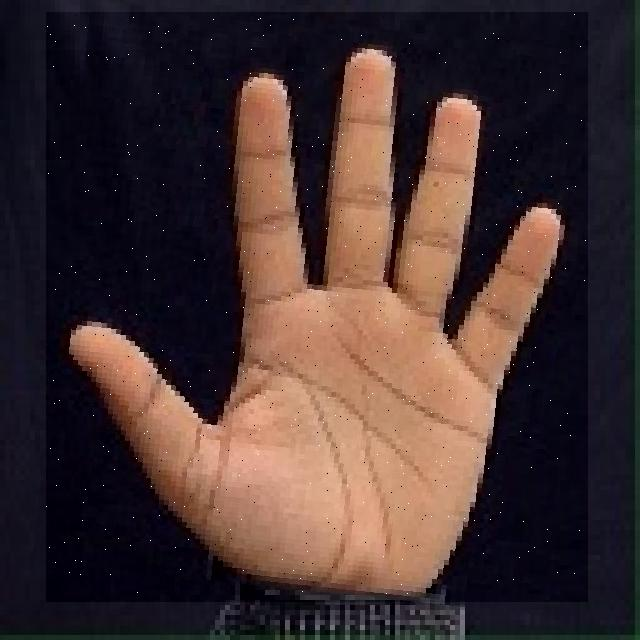Yes: (46, 12, 588, 602)
